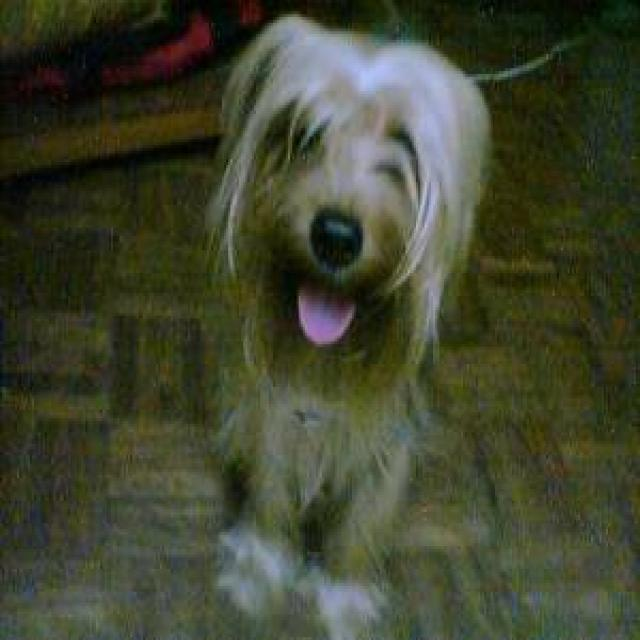dog-yorkshire_terrier: (205, 3, 501, 634)
